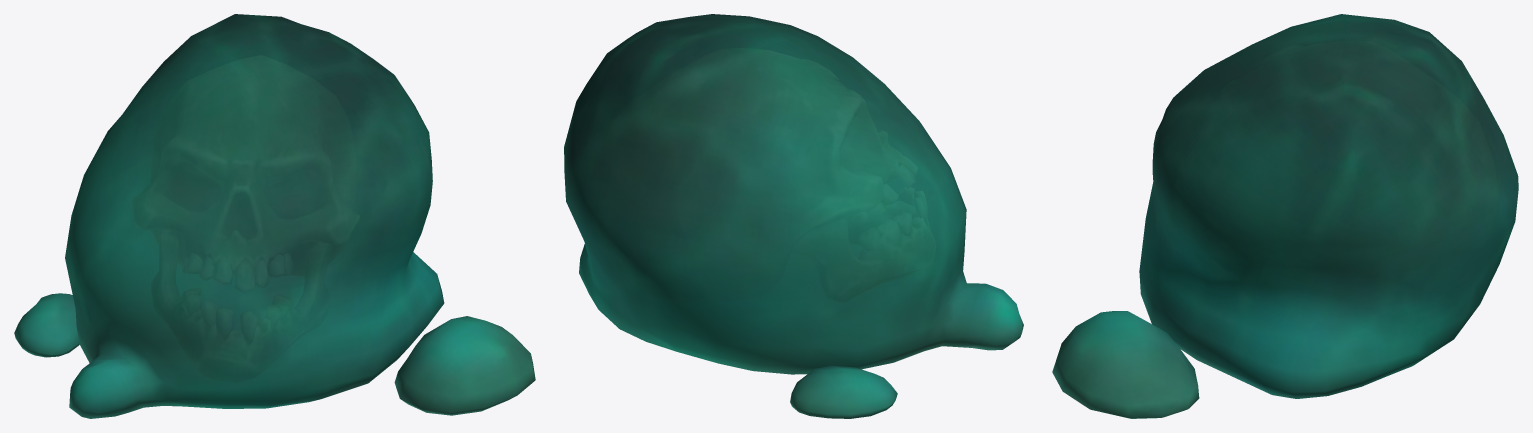
3 renders of one model, left to right at view 1: azimuth 30°, elevation 25°; view 2: azimuth 150°, elevation 25°; view 3: azimuth 270°, elevation 25°, orthographic. The views are drawn at different scales.
Visible parts, largest first — view 1: SM_Generic_Spectral_Drop_01_LOD0; view 2: SM_Generic_Spectral_Drop_01_LOD0; view 3: SM_Generic_Spectral_Drop_01_LOD0.
Part boxes in pixels (left/top/right/bottom): SM_Generic_Spectral_Drop_01_LOD0: left=14, top=14, right=535, bottom=418; SM_Generic_Spectral_Drop_01_LOD0: left=564, top=14, right=1023, bottom=418; SM_Generic_Spectral_Drop_01_LOD0: left=1052, top=14, right=1518, bottom=418.
Bounding box in the file's own units: 0.5409 × 0.3771 × 0.5146.
2 materials, 2 textured.
